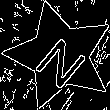N_NE: (27, 24, 92, 88)
